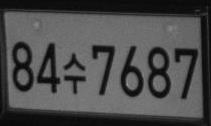4: (35, 41, 61, 94)
6: (119, 45, 144, 98)
7: (174, 47, 199, 100), (91, 44, 116, 96)
8: (146, 46, 172, 98), (11, 40, 34, 92)
수: (62, 52, 86, 95)
